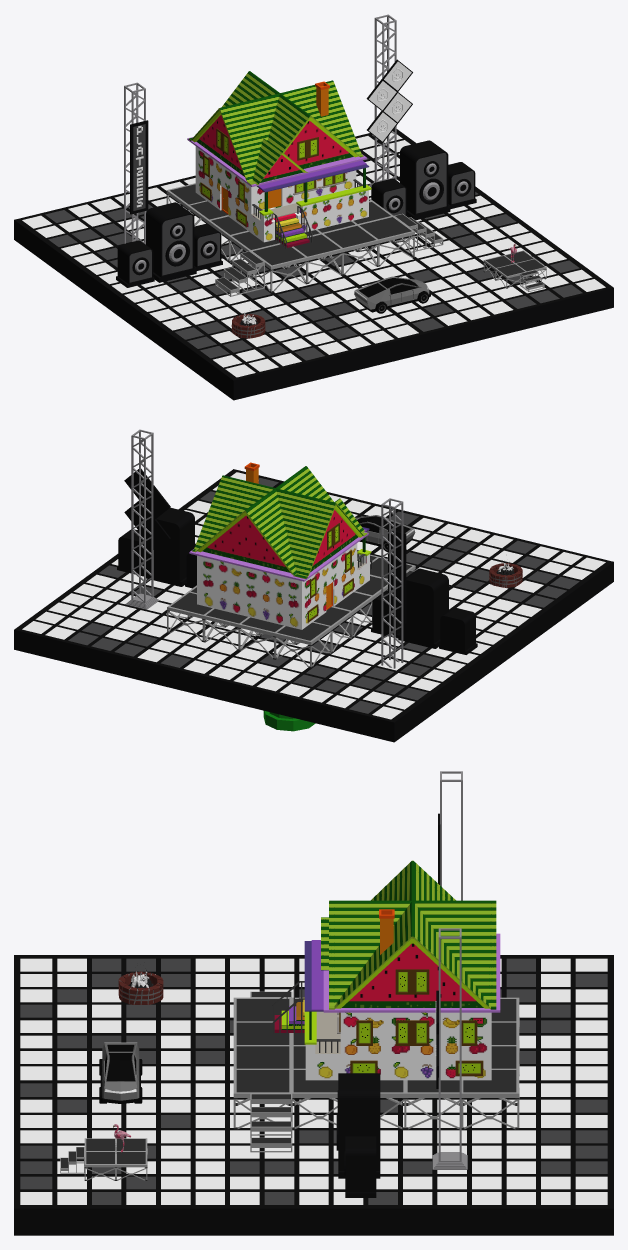
The picture shows the model from 3 angles, top to bottom: view 1: azimuth 30°, elevation 25°; view 2: azimuth 150°, elevation 25°; view 3: azimuth 270°, elevation 25°; orthographic projection. The views are drawn at different scales.
Parts seen in each view (by area): view 1: Cube.008, Cube.1063, VEHICLES_CYBERTRUCK, OBJRANDOM_CAMPFIRE; view 2: Cube.008, Cube.1063, VEHICLES_CYBERTRUCK, OBJRANDOM_CAMPFIRE, UNDERGROUND_PIPES; view 3: Cube.008, Cube.1063, VEHICLES_CYBERTRUCK, OBJRANDOM_CAMPFIRE.
Boxes of the visible parts, x1,y1,x2,y2 form: Cube.008: [14, 14, 613, 400]; Cube.1063: [187, 71, 371, 248]; VEHICLES_CYBERTRUCK: [354, 276, 430, 313]; OBJRANDOM_CAMPFIRE: [231, 312, 265, 338]; Cube.008: [14, 429, 613, 742]; Cube.1063: [189, 462, 372, 629]; VEHICLES_CYBERTRUCK: [355, 515, 415, 552]; OBJRANDOM_CAMPFIRE: [489, 562, 522, 587]; UNDERGROUND_PIPES: [263, 711, 315, 731]; Cube.008: [14, 771, 613, 1235]; Cube.1063: [272, 860, 500, 1080]; VEHICLES_CYBERTRUCK: [99, 1042, 142, 1103]; OBJRANDOM_CAMPFIRE: [118, 968, 163, 1004].
Bounding box in the file's own units: 4000 × 2555 × 4000.
Materials: 35 (3 with a texture image).
